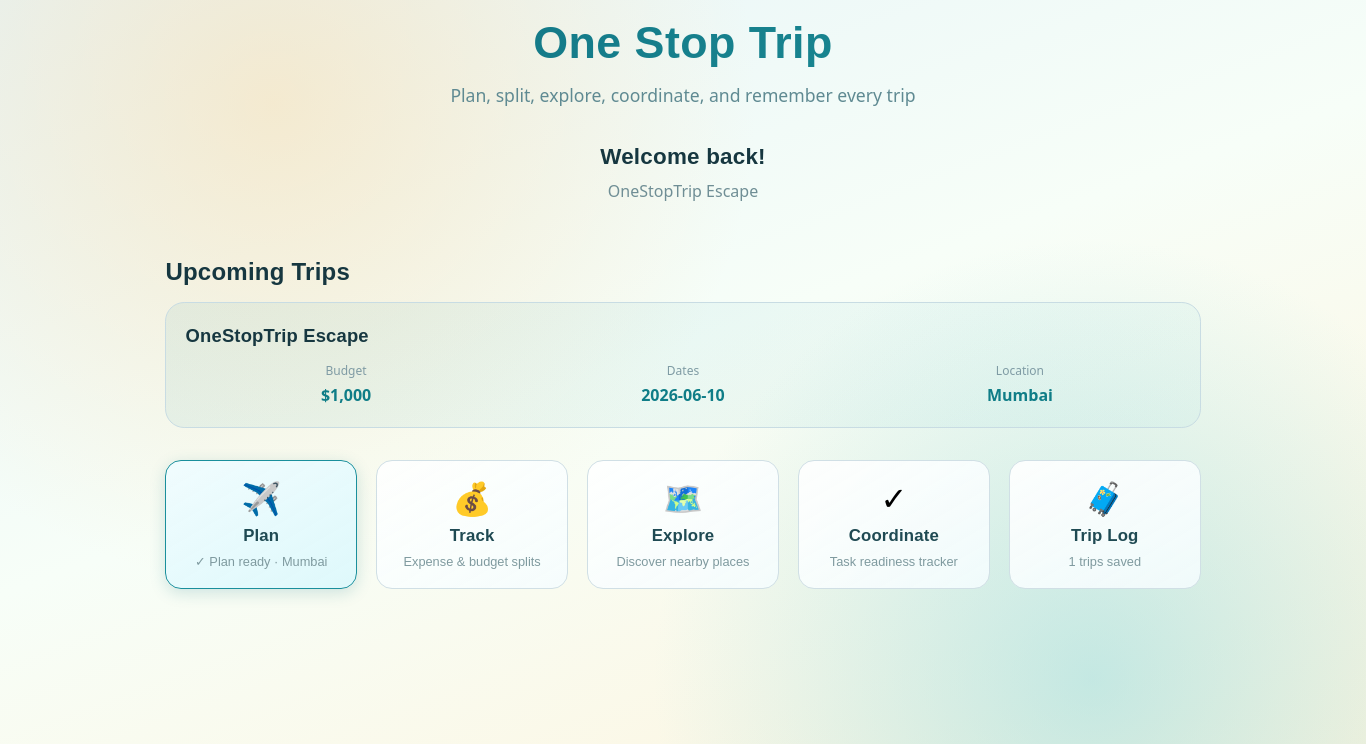
App integration › adds an expense and refreshes the budget summary
The image size is (1366, 744).
Click the button "💰 Track Expense & budget splits" at (472, 524), box [376,460,568,589]
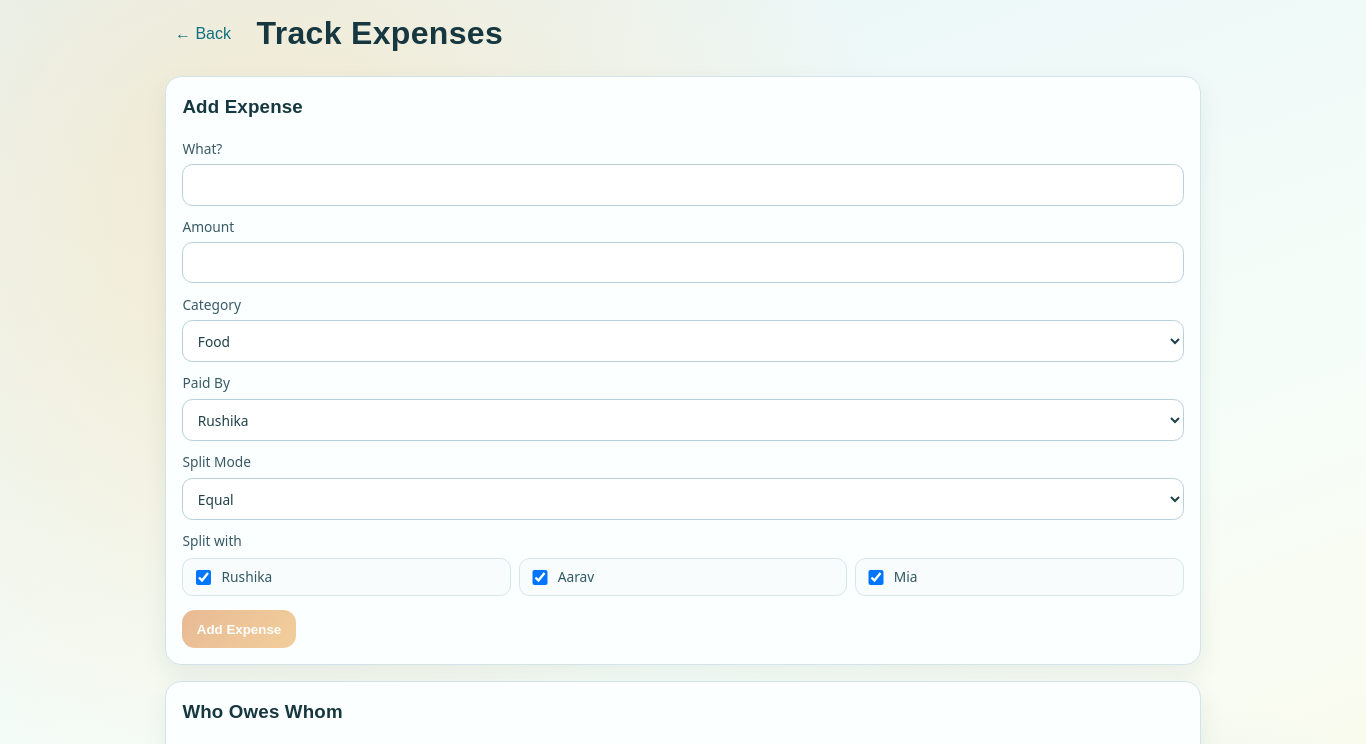
Now the heading "Track Expenses" is shown, box [257,10,503,57]
Type "Museum Tickets" into the field labelled "What?" at (683, 185), box [182,164,1184,206]
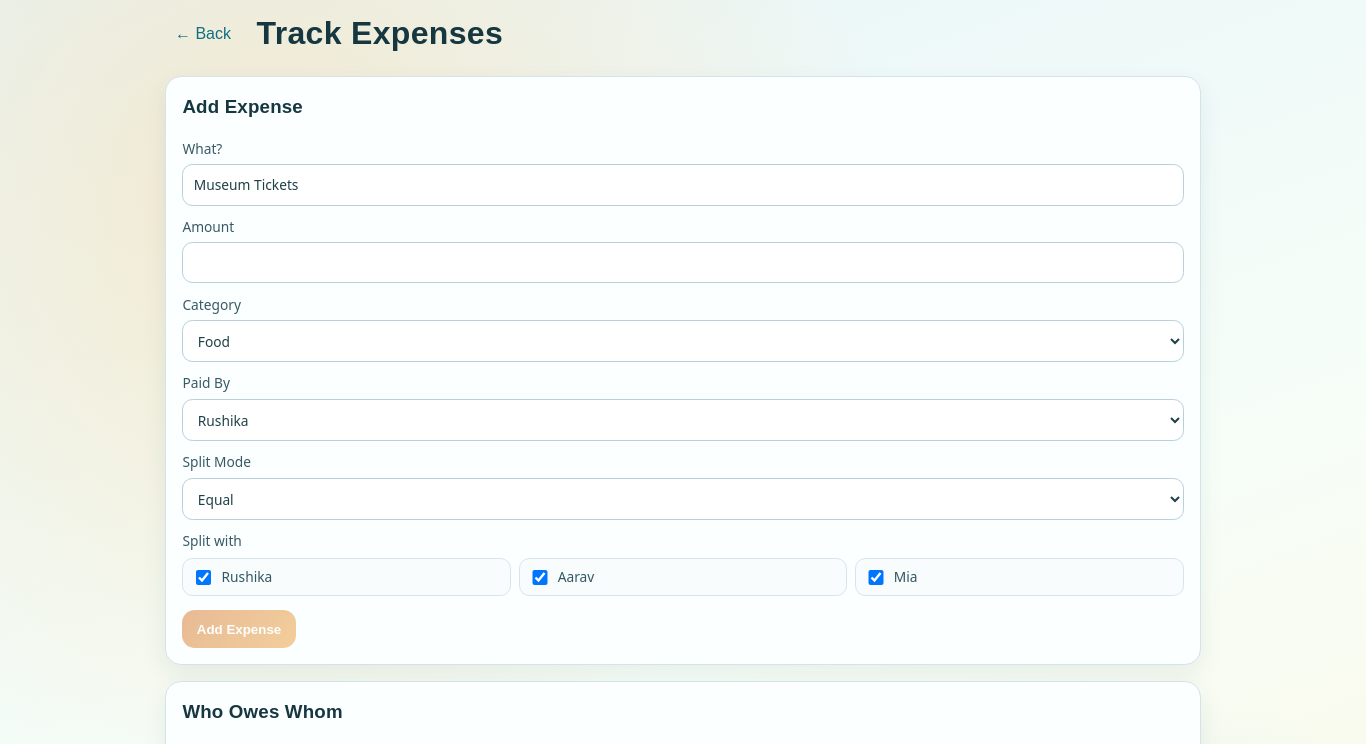
Type "120" into the number field labelled "Amount" at (683, 263), box [182,242,1184,283]
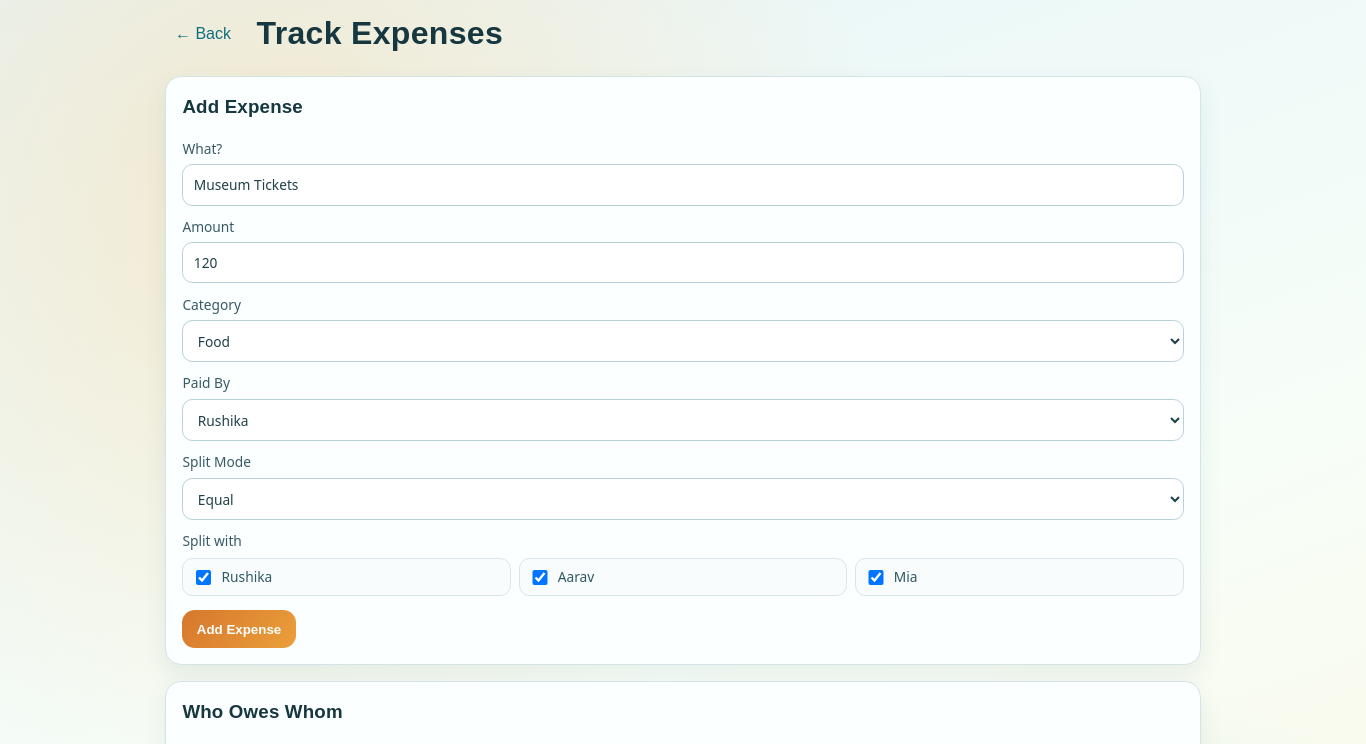
Select "Activities" in the dropdown labelled "Category" at (683, 341), box [182,320,1184,362]
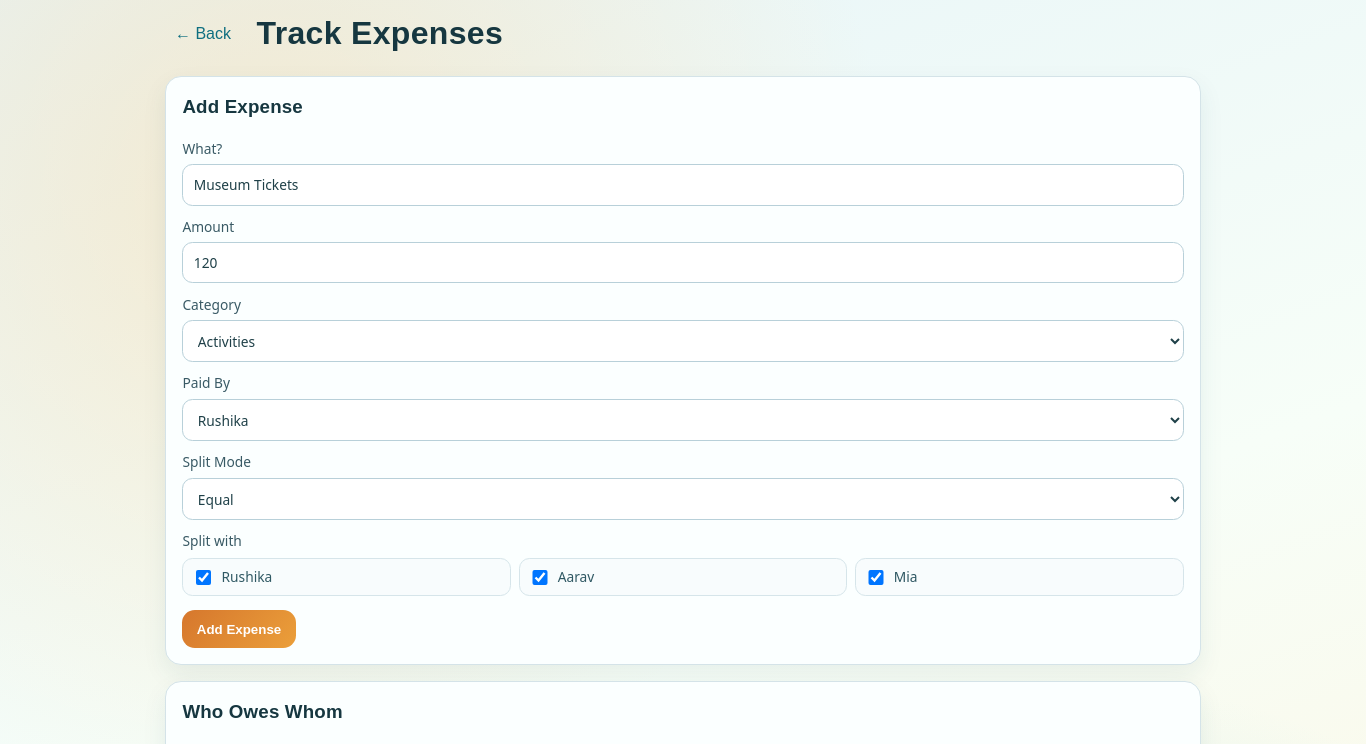
Click the button "Add Expense" at (239, 629), box [182,610,296,648]
(page scrolled)
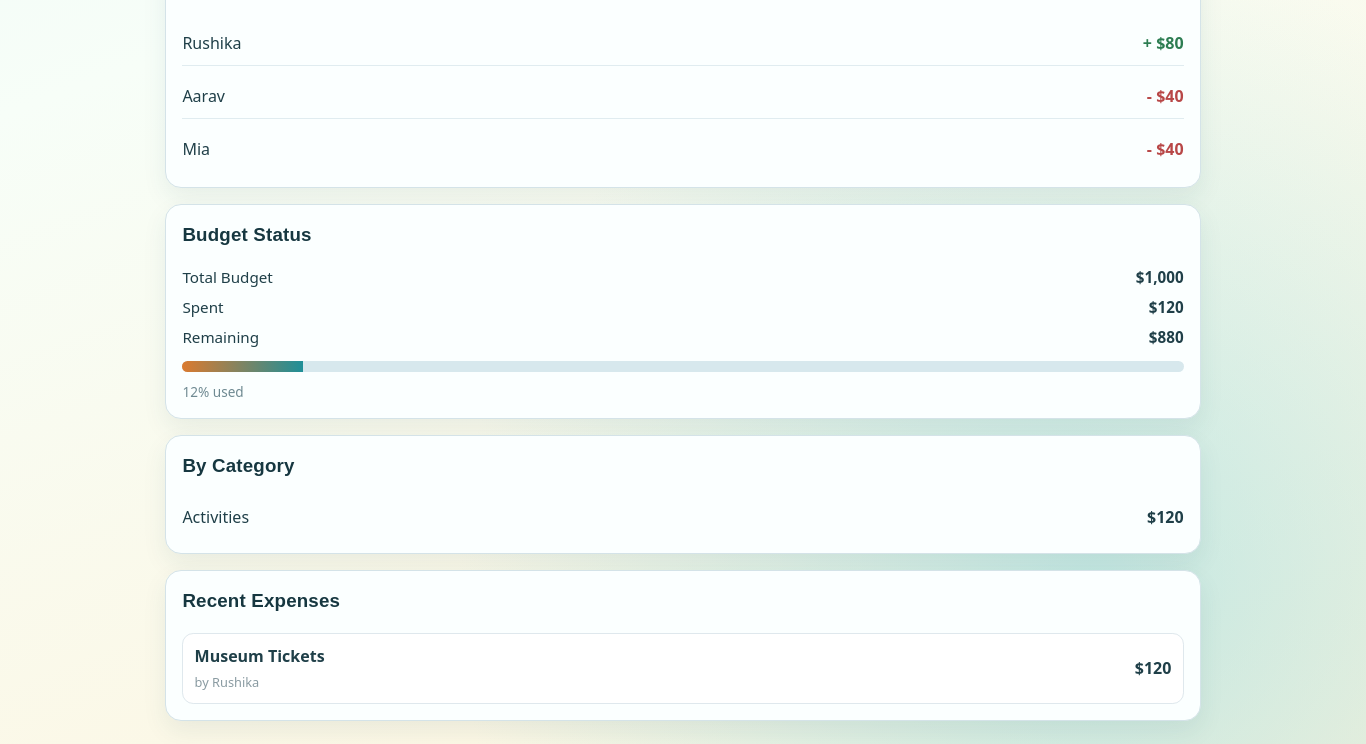
Now the text "Museum Tickets" is shown, box [195,645,325,667]
Now the text "$120" in the row of "Spent" is shown, box [1149,297,1184,317]
Now the heading "Recent Expenses" is shown, box [182,590,340,611]
